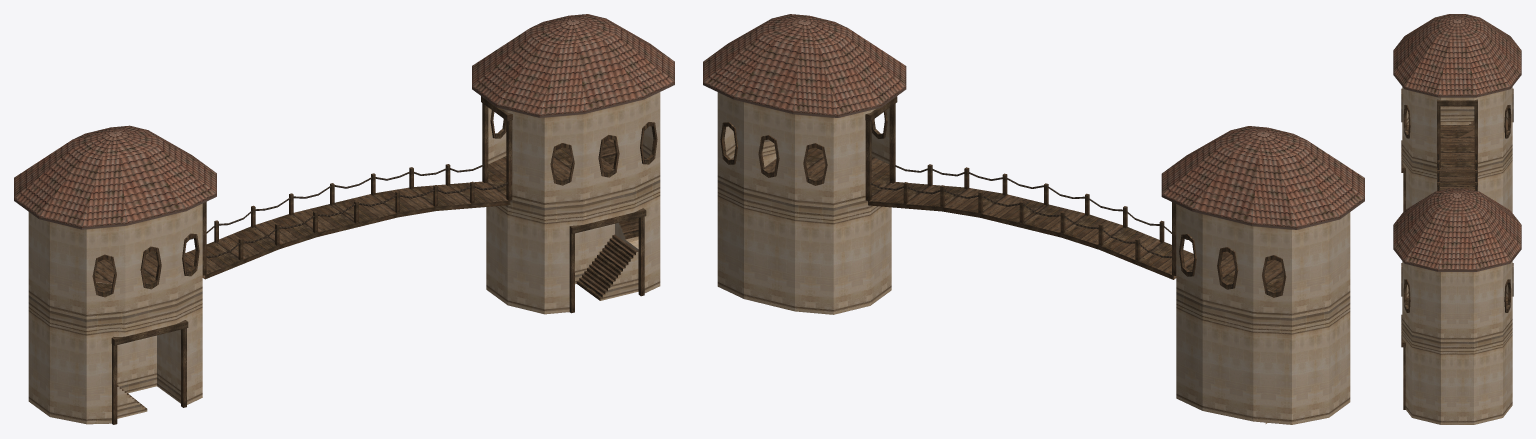
File: GuardsTower.obj
The picture shows the model from 3 angles, left to right: view 1: azimuth 30°, elevation 25°; view 2: azimuth 150°, elevation 25°; view 3: azimuth 270°, elevation 25°; orthographic projection. The views are drawn at different scales.
Parts seen in each view (by area): view 1: TowerWalls0_Mesh0, TowerRoofs0_Mesh0, TowerWood0_Mesh0, TowerTrim0_Mesh0, TowerRopes0_Mesh0; view 2: TowerWalls0_Mesh0, TowerRoofs0_Mesh0, TowerWood0_Mesh0, TowerTrim0_Mesh0, TowerRopes0_Mesh0; view 3: TowerWalls0_Mesh0, TowerRoofs0_Mesh0, TowerWood0_Mesh0, TowerTrim0_Mesh0, TowerRopes0_Mesh0.
Boxes of the visible parts, x1=… form: TowerWalls0_Mesh0: x1=28, y1=92, x2=660, y2=424; TowerRoofs0_Mesh0: x1=14, y1=14, x2=674, y2=229; TowerWood0_Mesh0: x1=95, y1=139, x2=638, y2=409; TowerTrim0_Mesh0: x1=92, y1=96, x2=657, y2=424; TowerRopes0_Mesh0: x1=190, y1=164, x2=507, y2=257; TowerWalls0_Mesh0: x1=717, y1=92, x2=1350, y2=424; TowerRoofs0_Mesh0: x1=703, y1=14, x2=1364, y2=229; TowerWood0_Mesh0: x1=764, y1=147, x2=1283, y2=291; TowerTrim0_Mesh0: x1=720, y1=96, x2=1286, y2=297; TowerRopes0_Mesh0: x1=870, y1=165, x2=1188, y2=257; TowerWalls0_Mesh0: x1=1402, y1=87, x2=1512, y2=424; TowerRoofs0_Mesh0: x1=1393, y1=14, x2=1521, y2=271; TowerWood0_Mesh0: x1=1407, y1=120, x2=1508, y2=307; TowerTrim0_Mesh0: x1=1401, y1=88, x2=1513, y2=409; TowerRopes0_Mesh0: x1=1437, y1=154, x2=1477, y2=190.
Bounding box in the file's own units: 62.5 × 24.22 × 14.
Materials: 4 (4 with a texture image).
